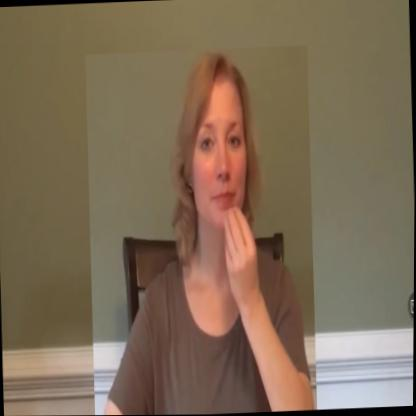Food: (83, 45, 320, 416)
